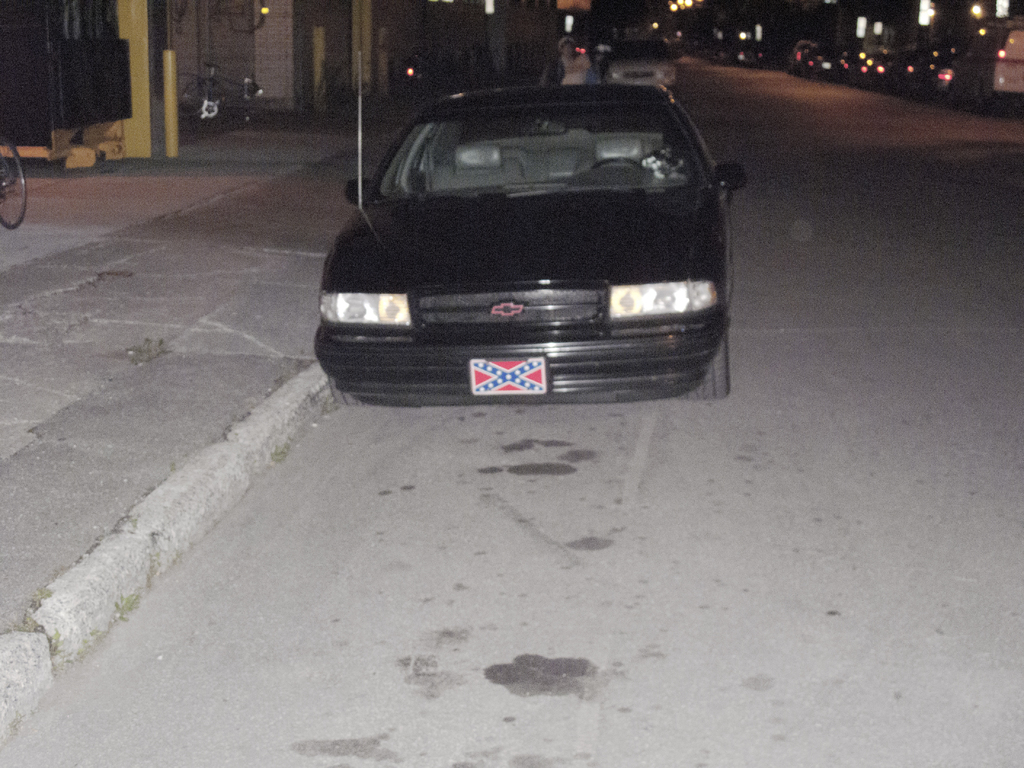Car: (314, 74, 741, 410), (599, 33, 675, 90)
